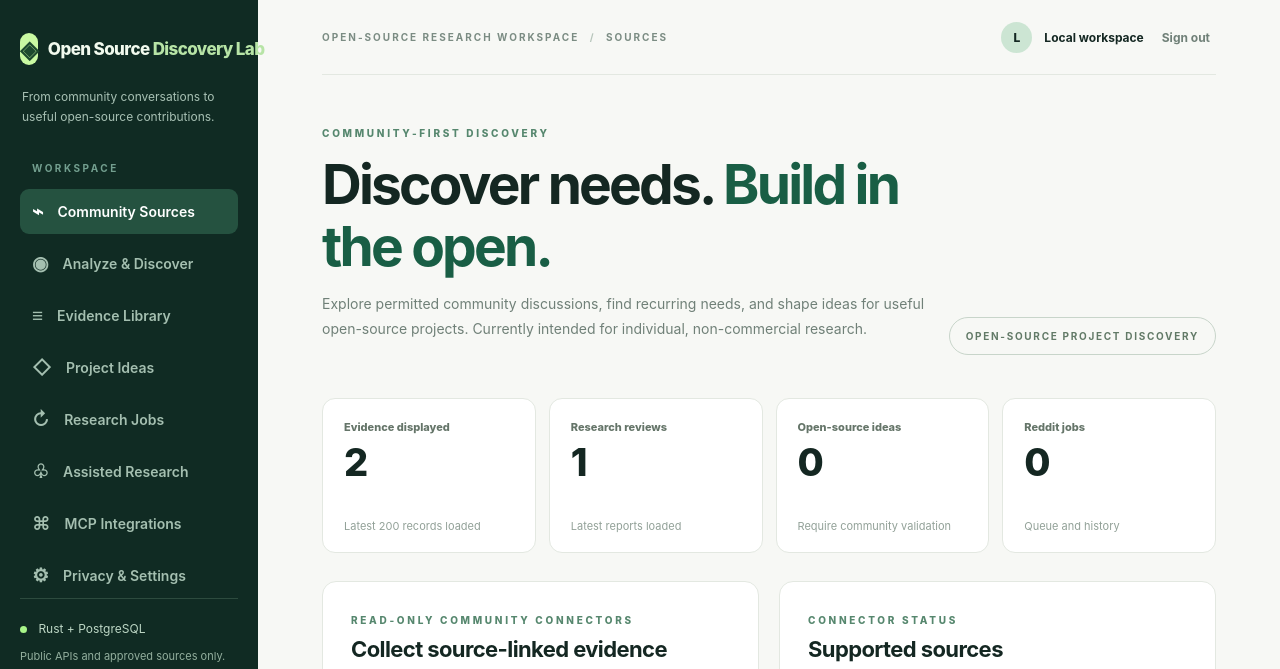
Scenario: analysis and navigation › shows coverage, priority explanations and unavailable evidence without unsafe links
Expected: the button "Sign out" is shown, 1156,28 -> 1216,46
Click the button "◉ Analyze & Discover". click: (129, 263)
box: 20,241 -> 238,286
(page scrolled)
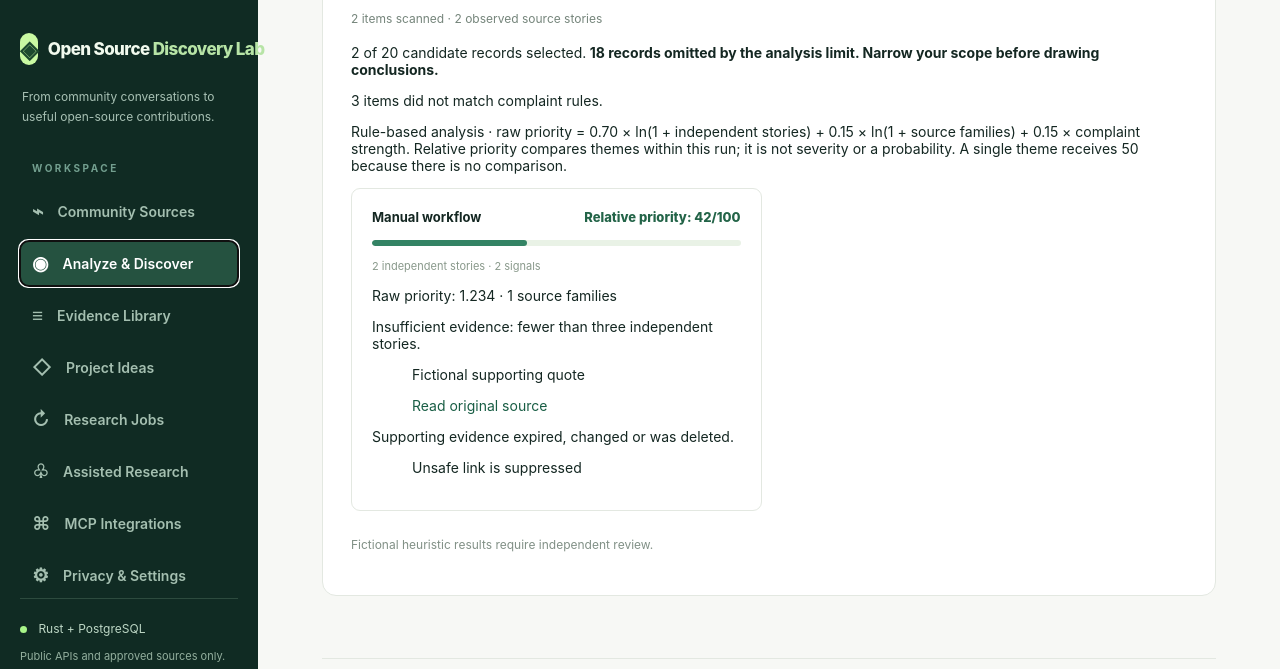
Expected: the text "18 records omitted" is shown, 351,44 -> 1099,78
Expected: the text "Relative priority: 42/100" is shown, 584,209 -> 740,225
Expected: the text "Insufficient evidence: fewer than three independent stories." is shown, 372,318 -> 740,352
